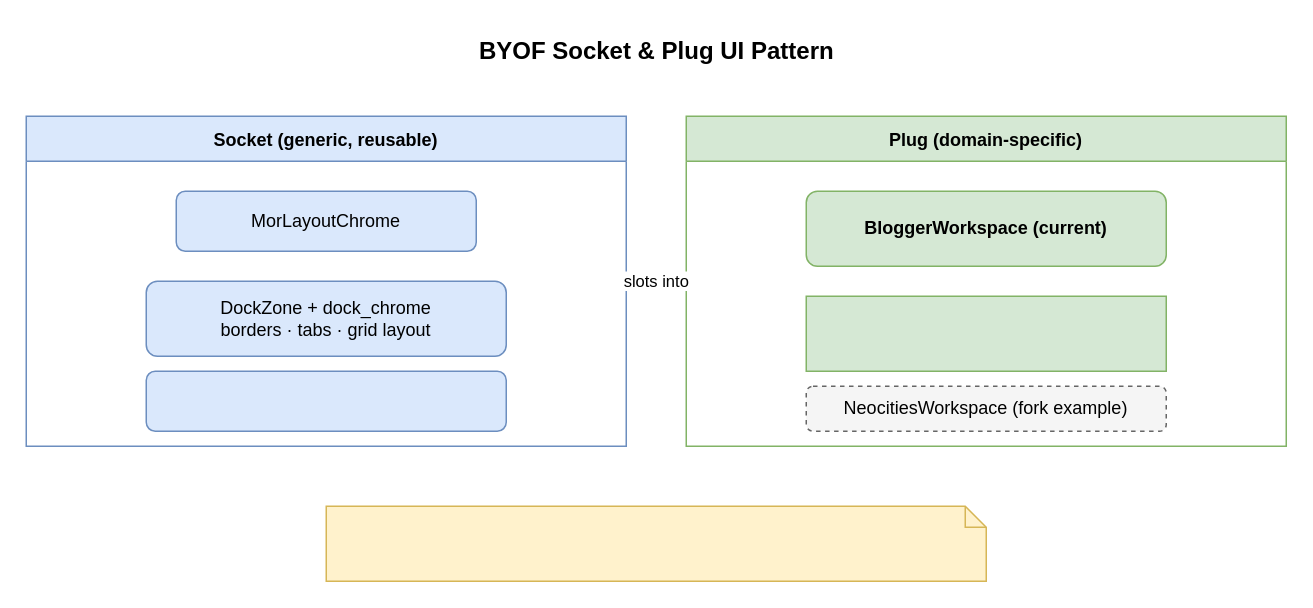
Image size: 1313x608. Some labels were removed from this diagram. Here are the shapes that lost their labels. From the top down, the box of each, then its label:
(805, 295, 1166, 371): Preview · export · site data Blogger-specific logic
(145, 370, 506, 431): ActivityBar + FloatingWindowManager
(325, 505, 986, 581): Swap the plug, keep the socket — zero structural friction for forks
